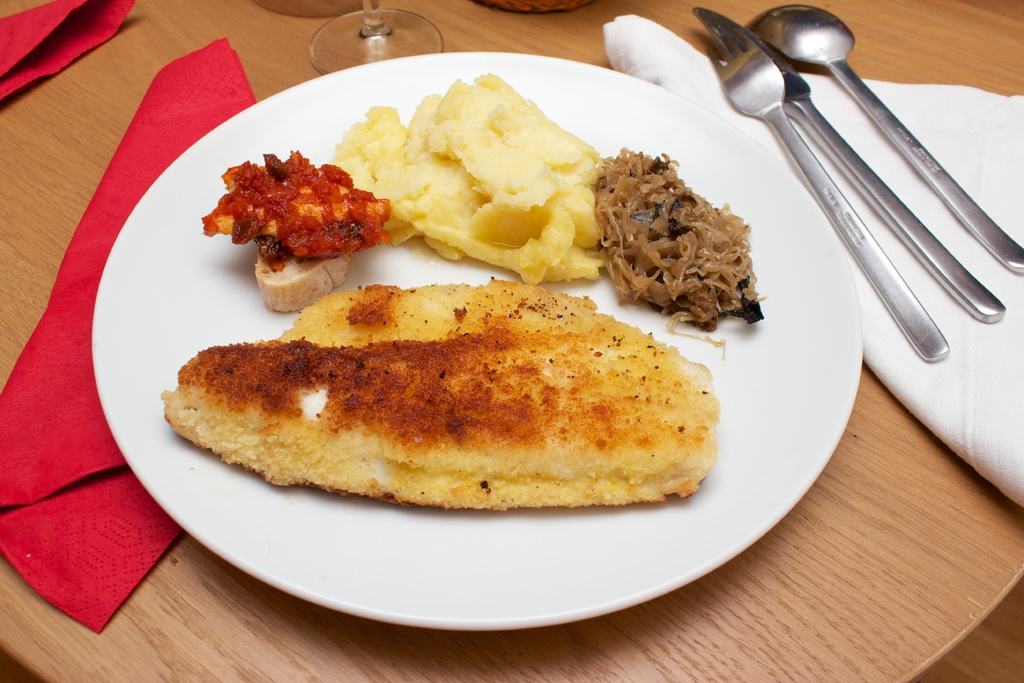fork: (706, 27, 950, 362)
